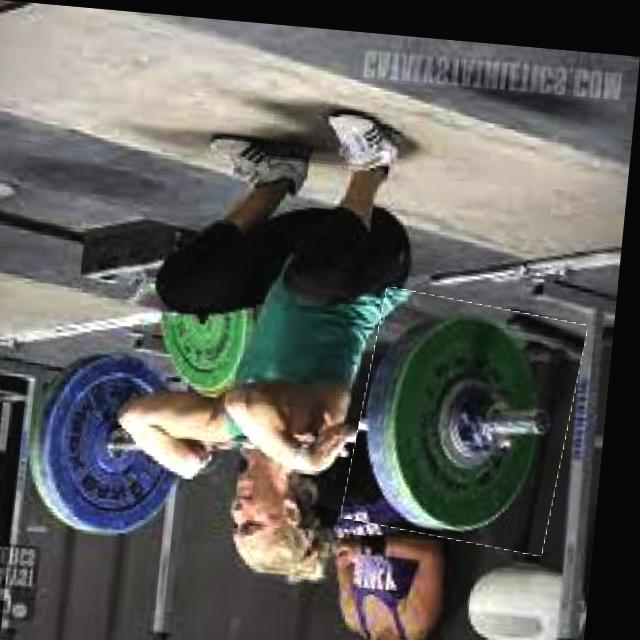barbell: (356, 283, 591, 543)
